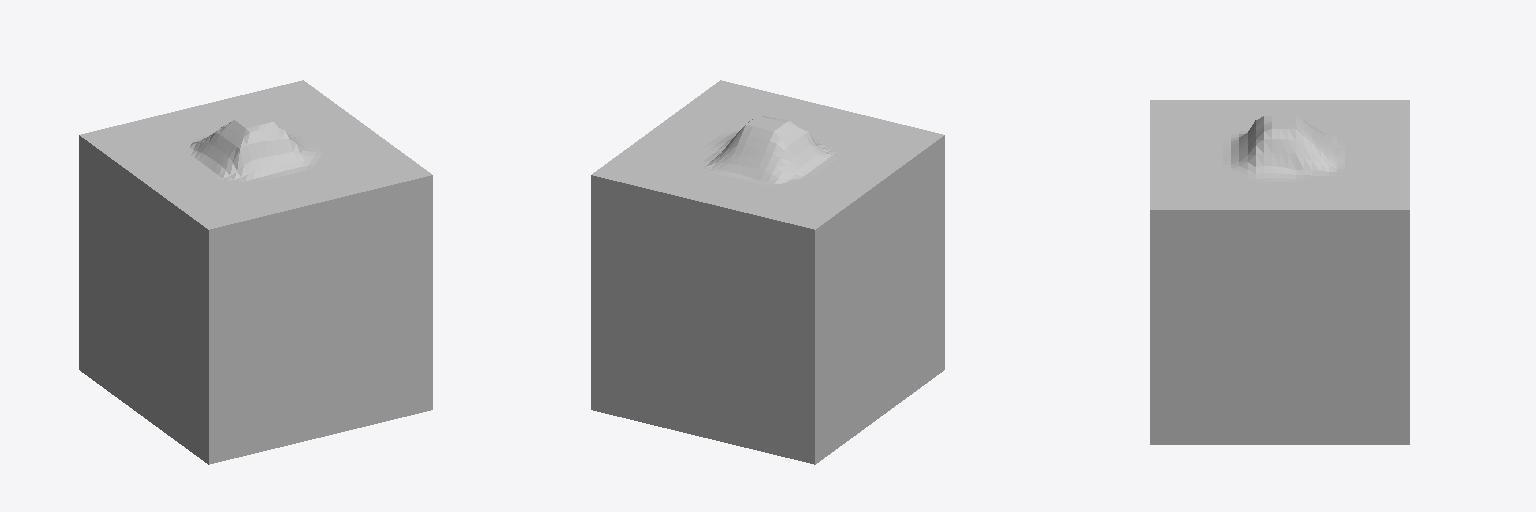
The model's file is PrototypeMap2.obj.
3 views of the same model, side by side, from view 1: azimuth 30°, elevation 25°; view 2: azimuth 150°, elevation 25°; view 3: azimuth 270°, elevation 25° (orthographic).
Parts seen in each view (by area): view 1: Cube; view 2: Cube; view 3: Cube.
Boxes of the visible parts, x1=… form: Cube: x1=79, y1=80, x2=432, y2=464; Cube: x1=591, y1=80, x2=944, y2=464; Cube: x1=1150, y1=100, x2=1409, y2=444.
Bounding box in the file's own units: 2 × 2.28 × 2.